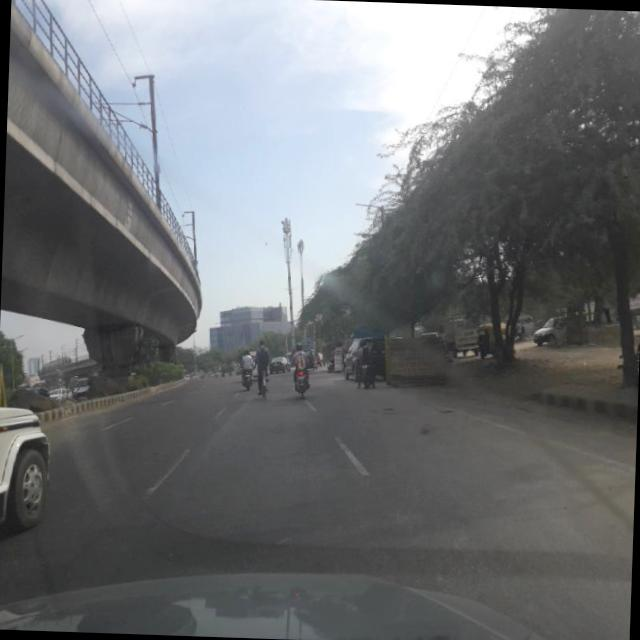crack: (305, 439, 522, 588)
